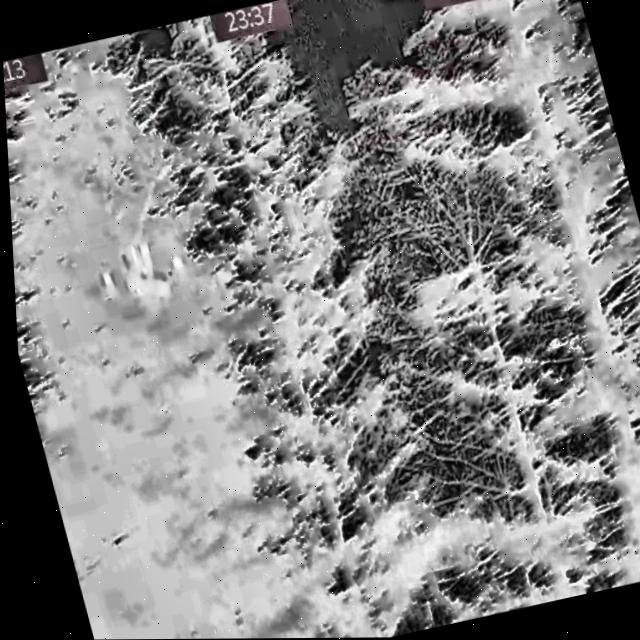drone: (91, 233, 189, 312)
